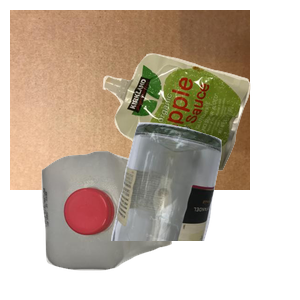cardboard: (10, 10, 250, 190)
glass: (109, 120, 300, 300)
plastic: (39, 149, 203, 300)
trash: (100, 51, 300, 214)
